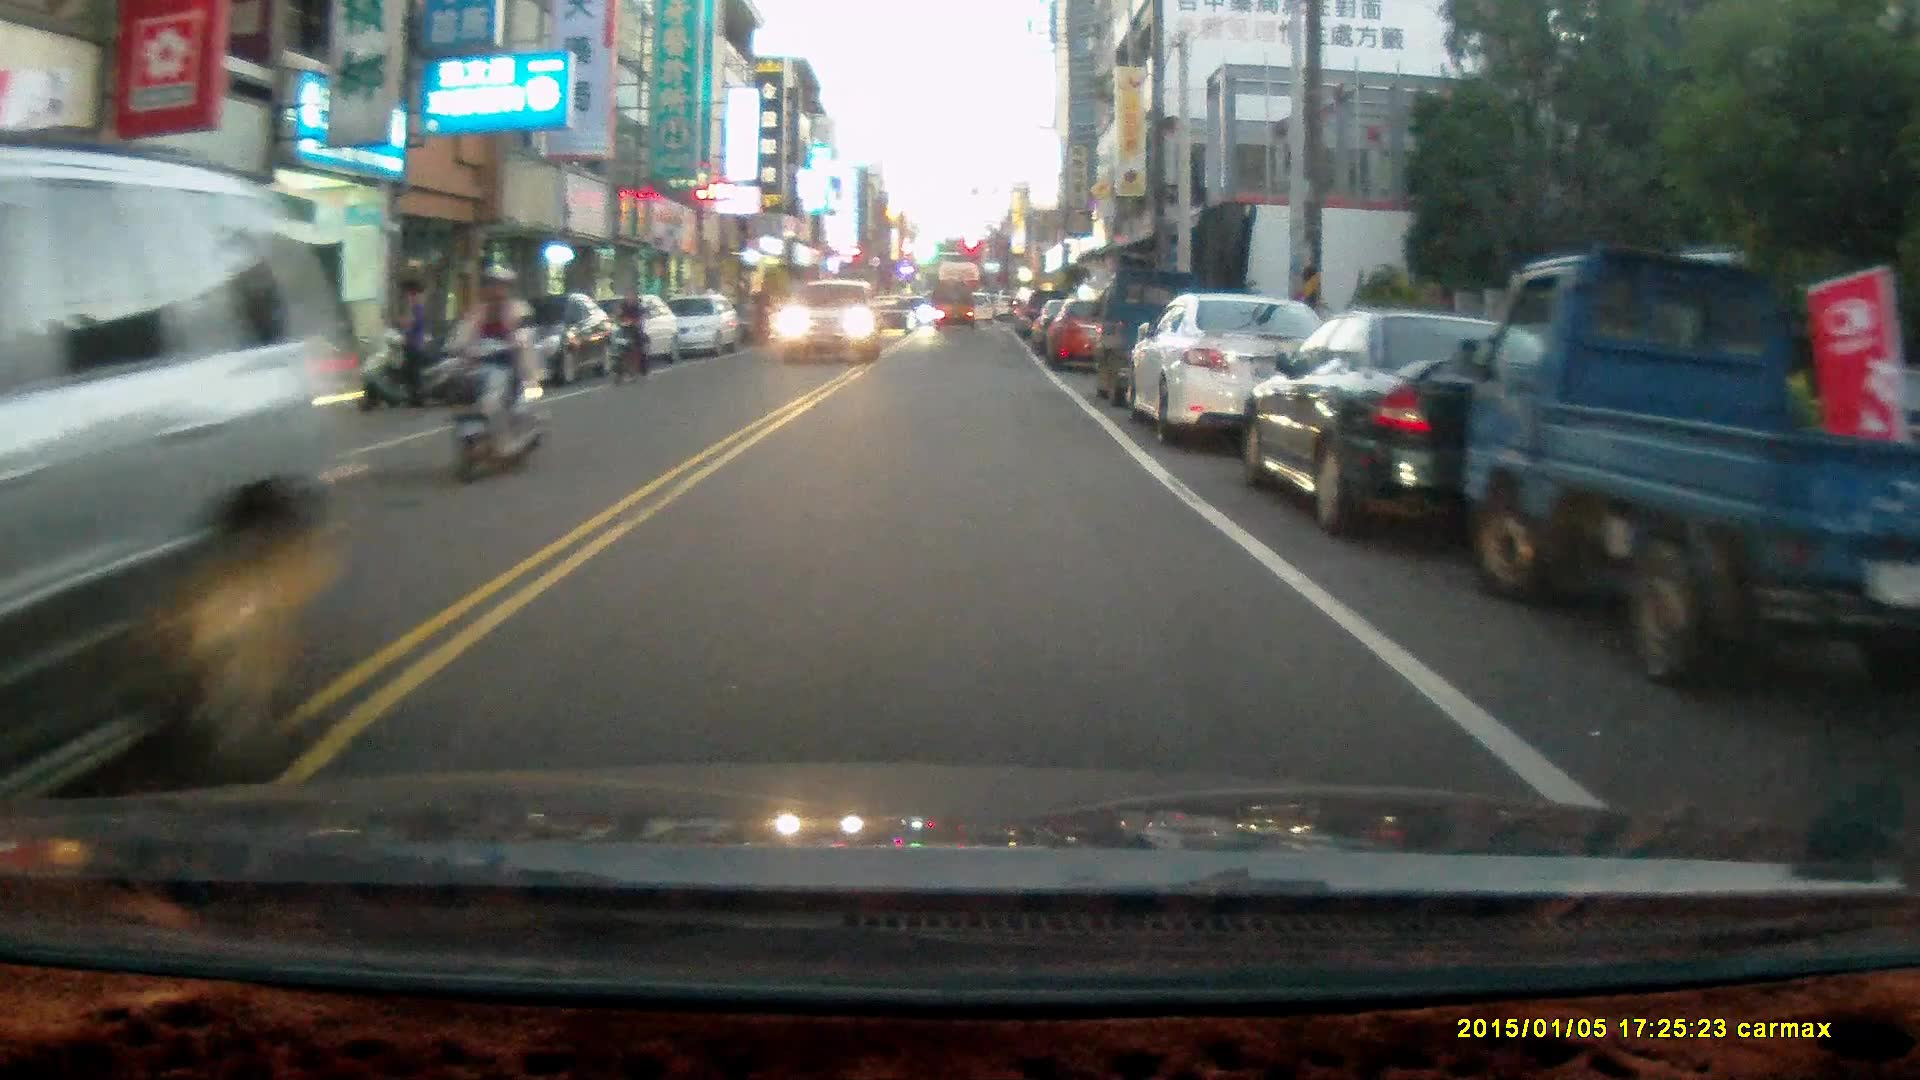pedestrian: (382, 279, 433, 413), (751, 281, 774, 343)
rider: (444, 263, 545, 485), (608, 287, 651, 385)
vehicle: (1465, 247, 1914, 699), (1244, 315, 1655, 550), (1130, 292, 1333, 451), (461, 294, 619, 381), (775, 280, 883, 363), (1046, 299, 1133, 375), (663, 295, 746, 363), (867, 296, 922, 341), (934, 282, 976, 334)
